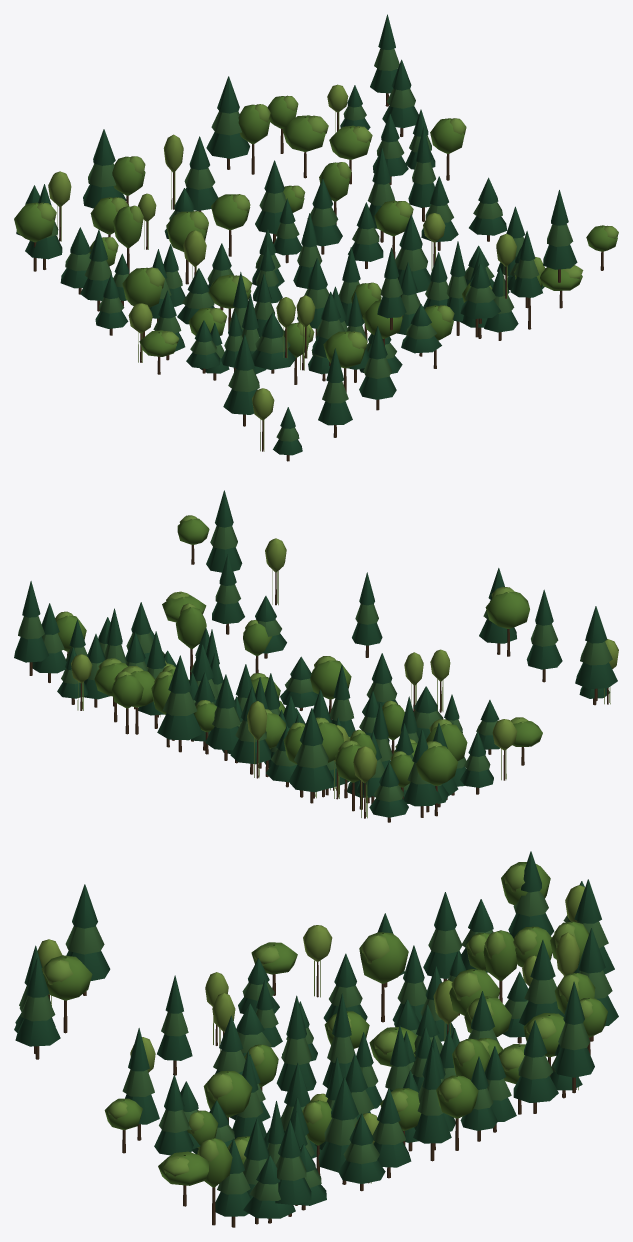
File: forest_3_4.dae
3 renders of one model, top to bottom at view 1: azimuth 30°, elevation 25°; view 2: azimuth 150°, elevation 25°; view 3: azimuth 270°, elevation 25°, orthographic. The views are drawn at different scales.
Parts seen in each view (by area): view 1: forest_3_4; view 2: forest_3_4; view 3: forest_3_4.
Boxes of the visible parts, x1,y1,x2,y2 form: forest_3_4: (14, 14, 618, 461); forest_3_4: (14, 490, 618, 822); forest_3_4: (14, 851, 618, 1227).
Size of the model in its own units: 134 by 134 by 71.42.
